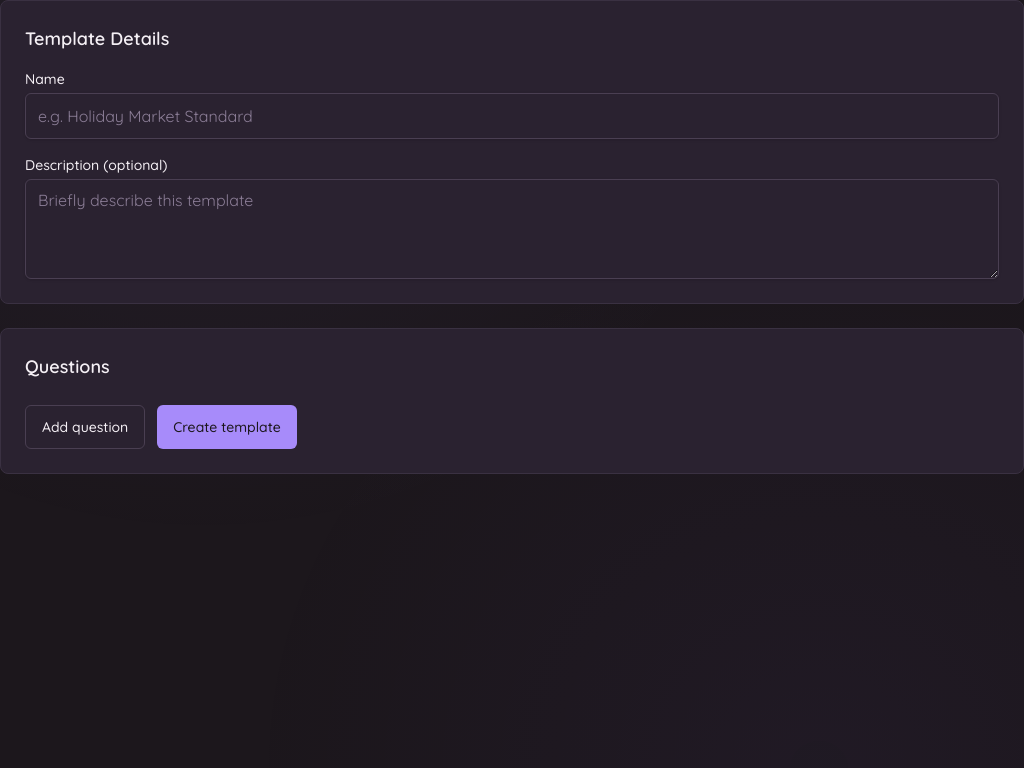
TemplateBuilder › validation › shows label error and blocks save when a question has an empty label
Click the button "Add question".
click(85, 427)  # box top-left (25, 405), bottom-right (145, 449)
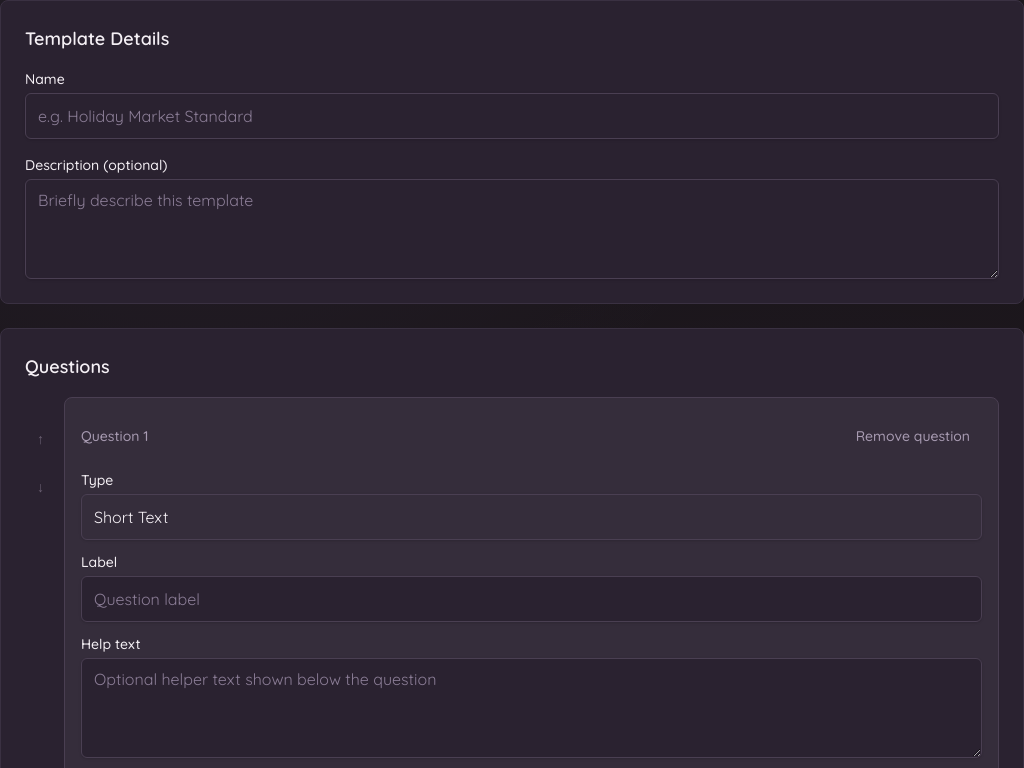
Type "My Template" into the field with placeholder "e.g. Holiday Market Standard".
click(512, 116); type("My Template")  # box top-left (25, 93), bottom-right (999, 139)
(page scrolled)
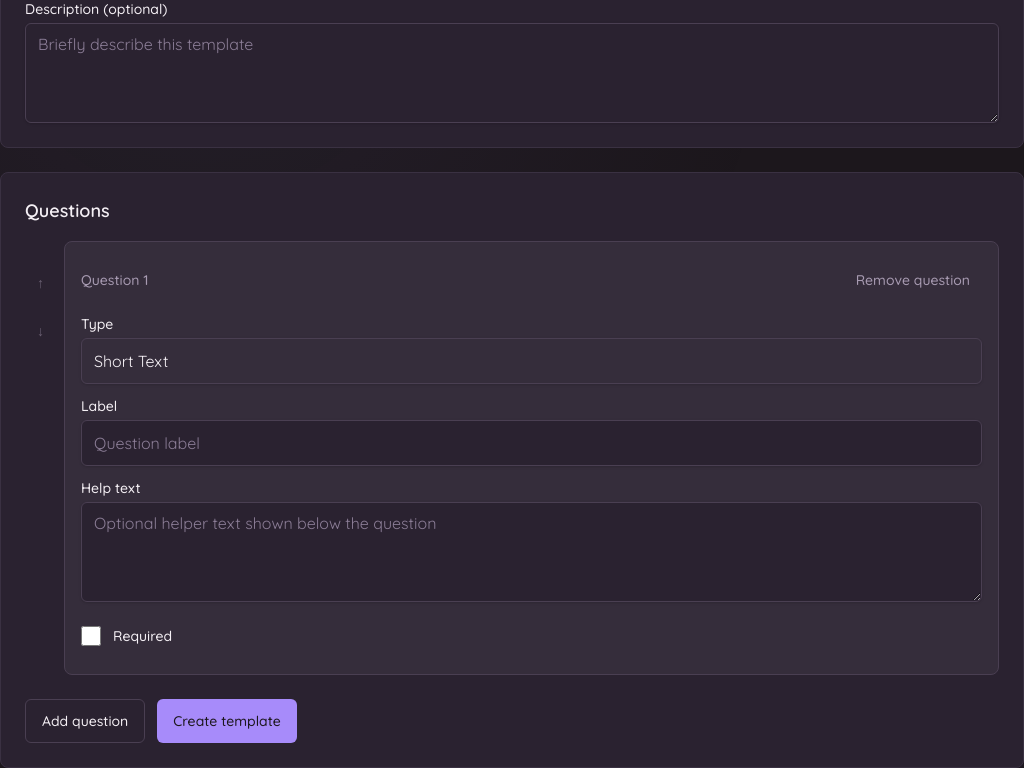
Click the button "Create template".
click(227, 721)  # box top-left (157, 699), bottom-right (297, 743)
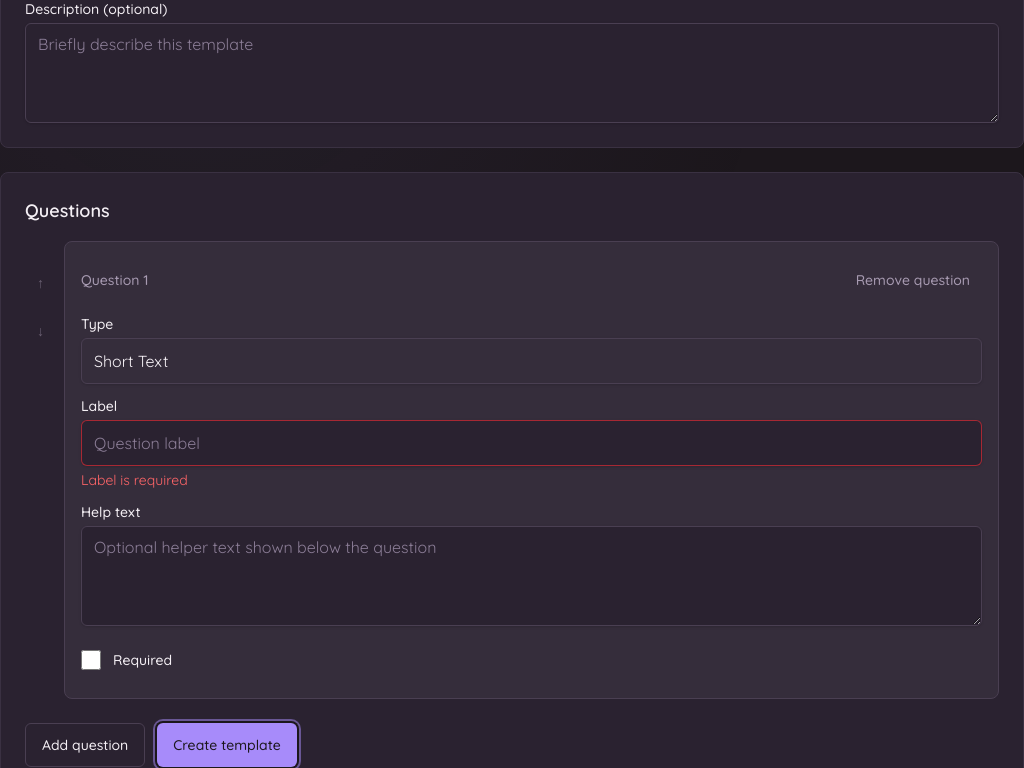
Result: the text "Label is required" is shown at top-left (81, 471), bottom-right (188, 489)
